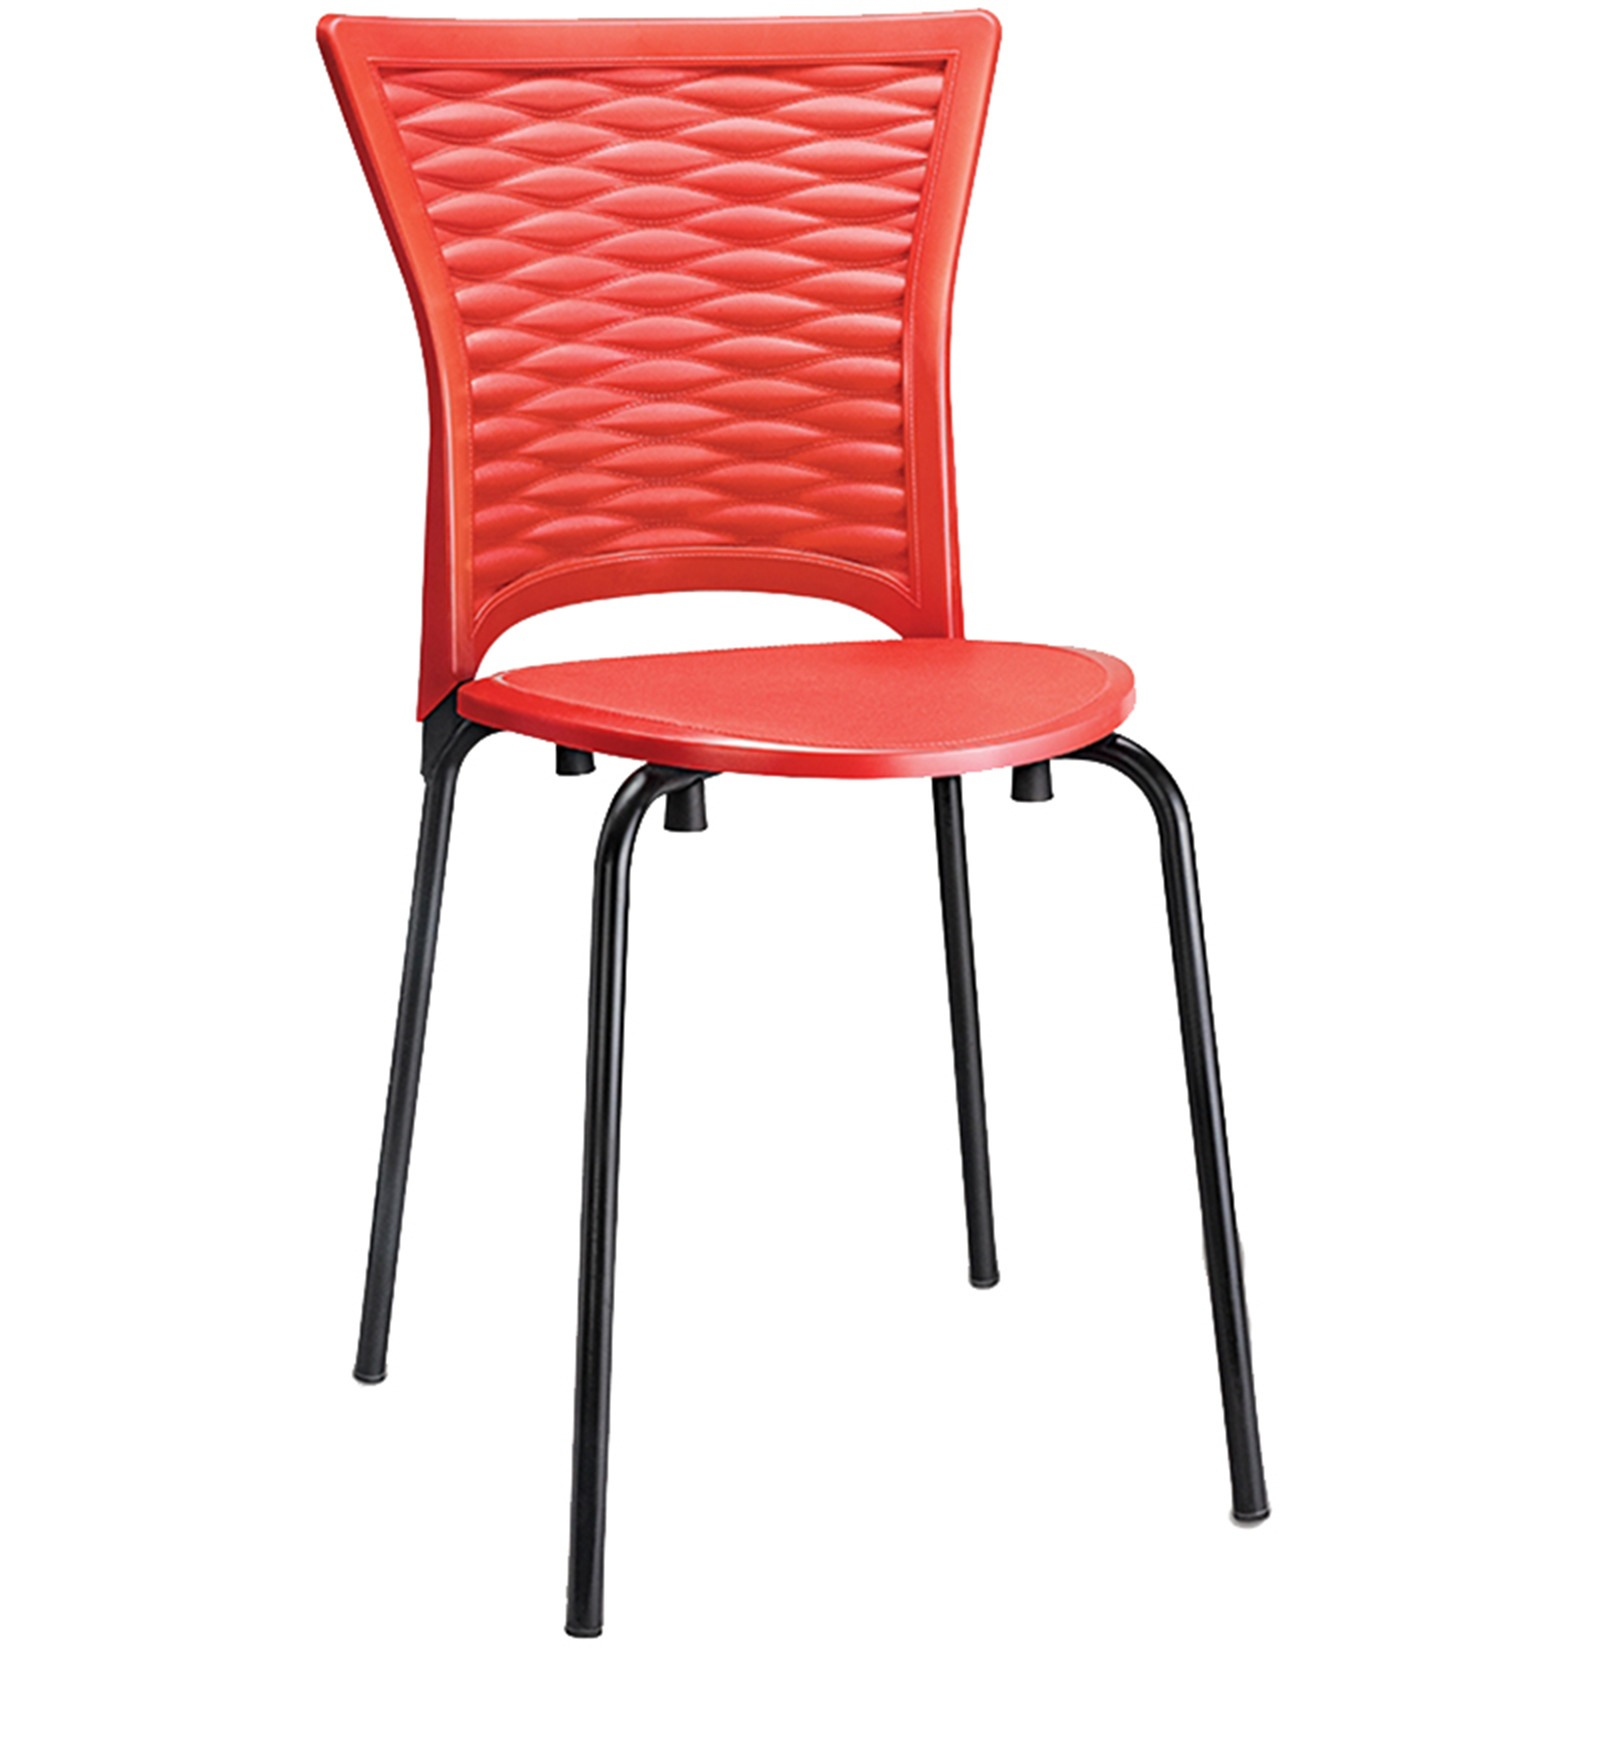Novella Chair in Red Colour by Nilkamal: (303, 14, 1278, 1640)
